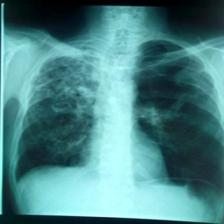tuberculosis: (7, 35, 224, 224)
